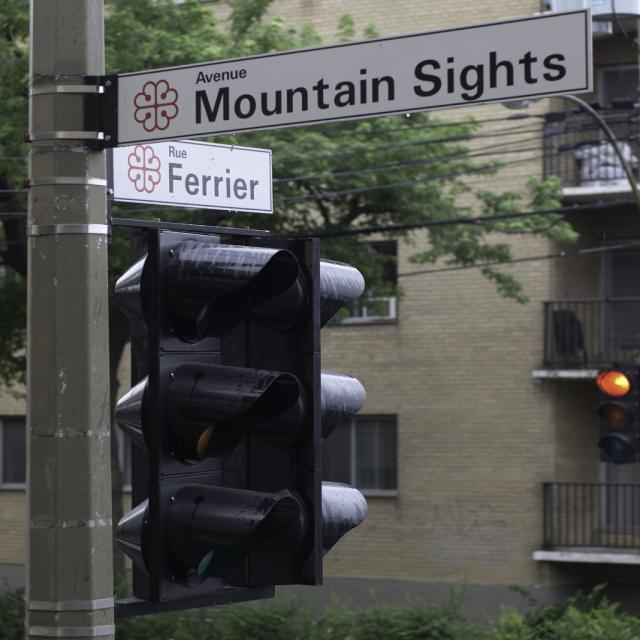off traffic light: (113, 224, 302, 620), (310, 241, 368, 587)
traffic light: (594, 366, 639, 470)
